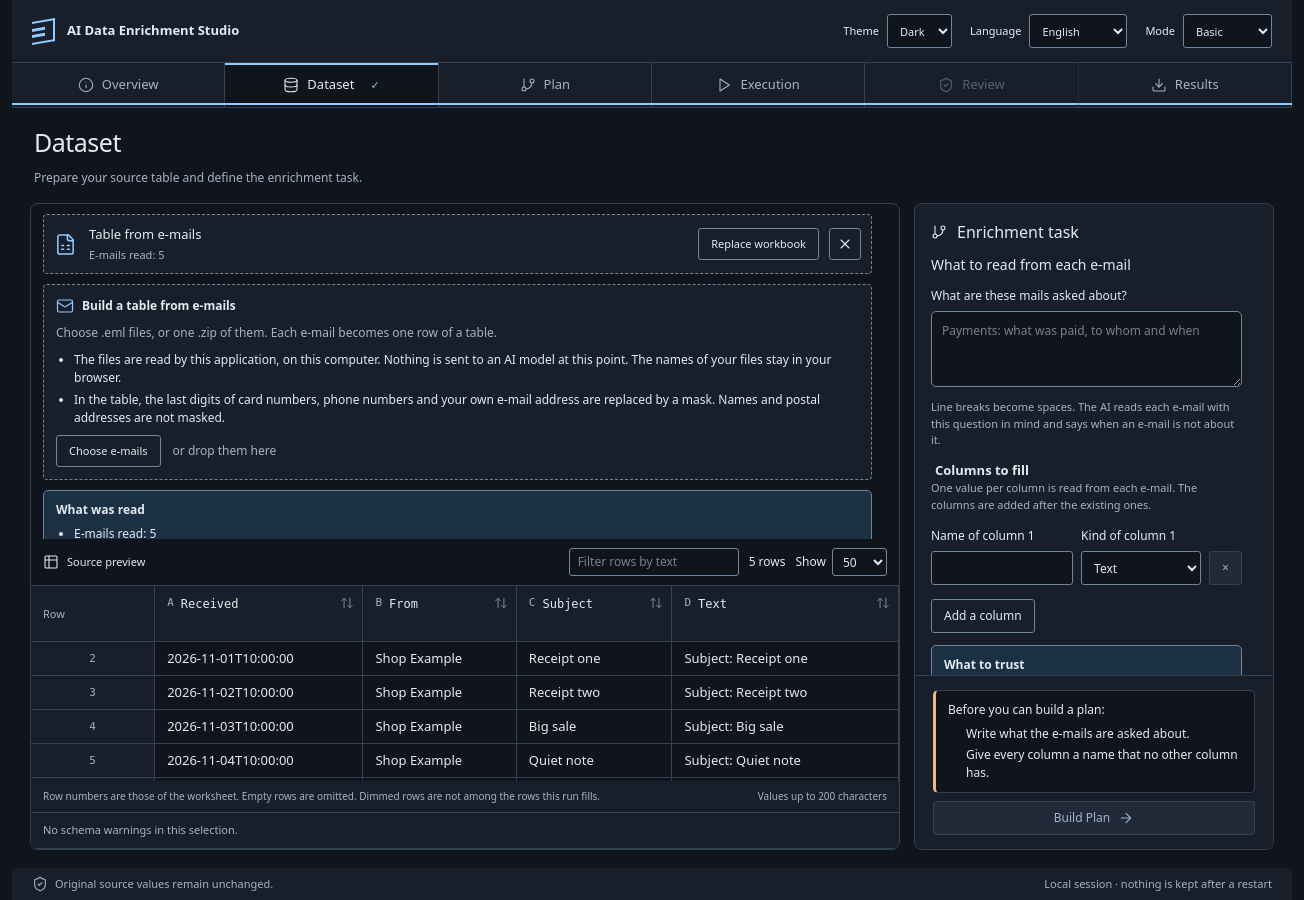
keeps the build button off until the form is valid, with the reason
The width and height of the screenshot is (1304, 900).
Earlier steps of the test are not shown.
Later steps or results of the test are not shown.
Expected: the button "Build Plan" is disabled, [933, 800, 1255, 834]
Type "q" into the text box labelled "What are these mails asked about?" at (1086, 349), box [931, 311, 1242, 387]
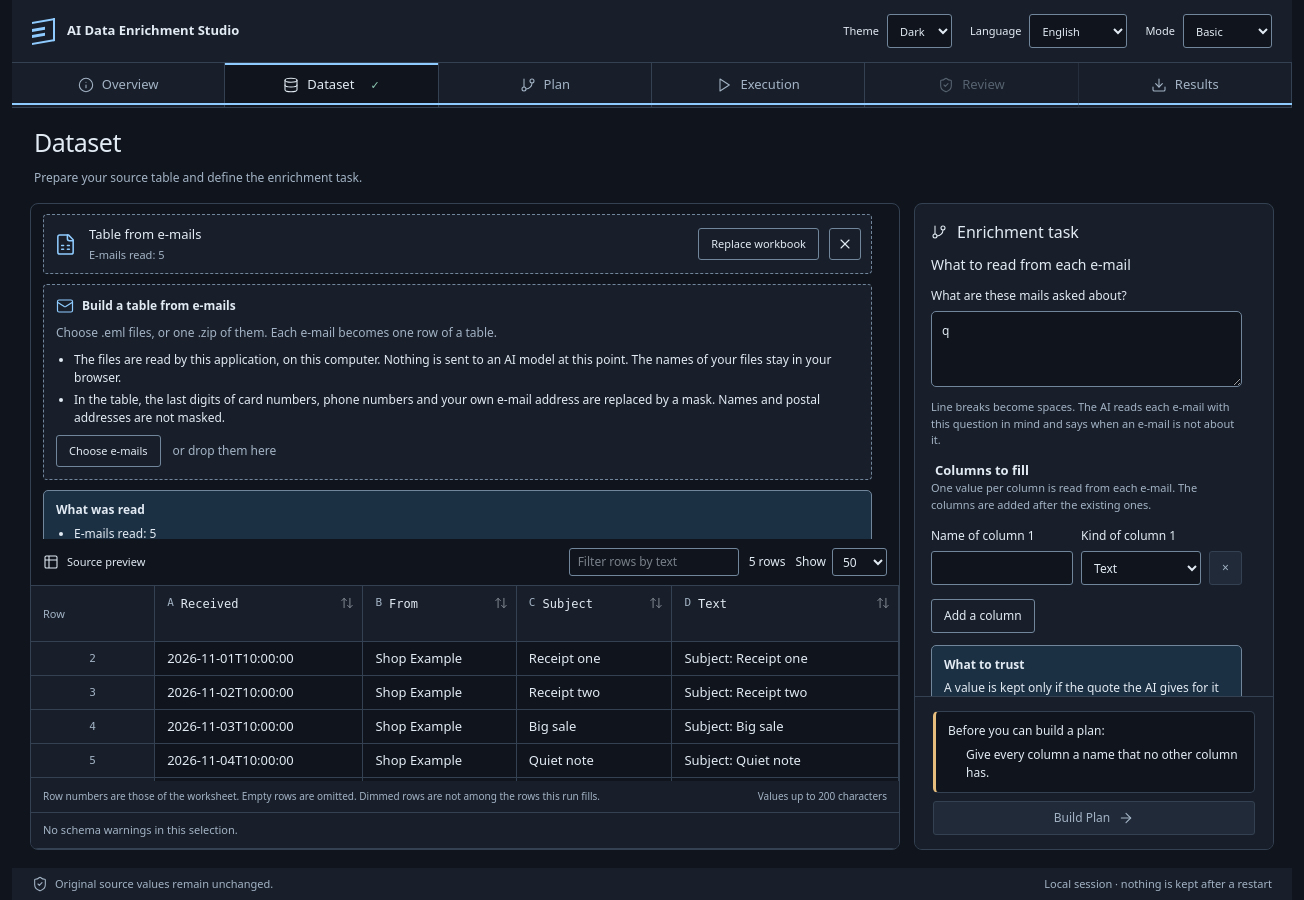
Type "text" into the field labelled "Name of column 1" at (1002, 568), box [931, 551, 1073, 585]
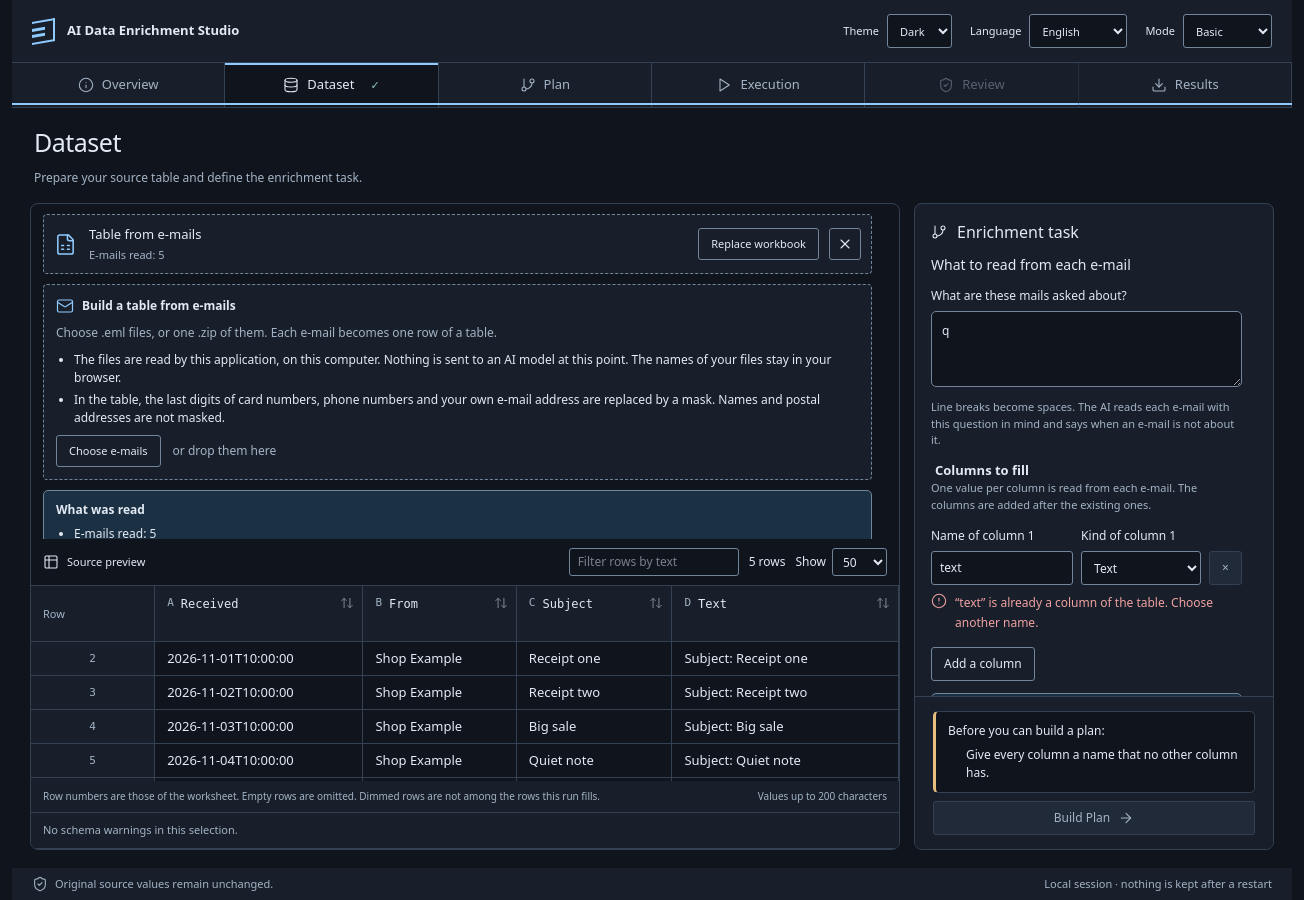
Expected: the button "Build Plan" is disabled, [933, 800, 1255, 834]
Replace the text in the field labelled "Name of column 1" with "Kind" at (1002, 568), box [931, 551, 1073, 585]
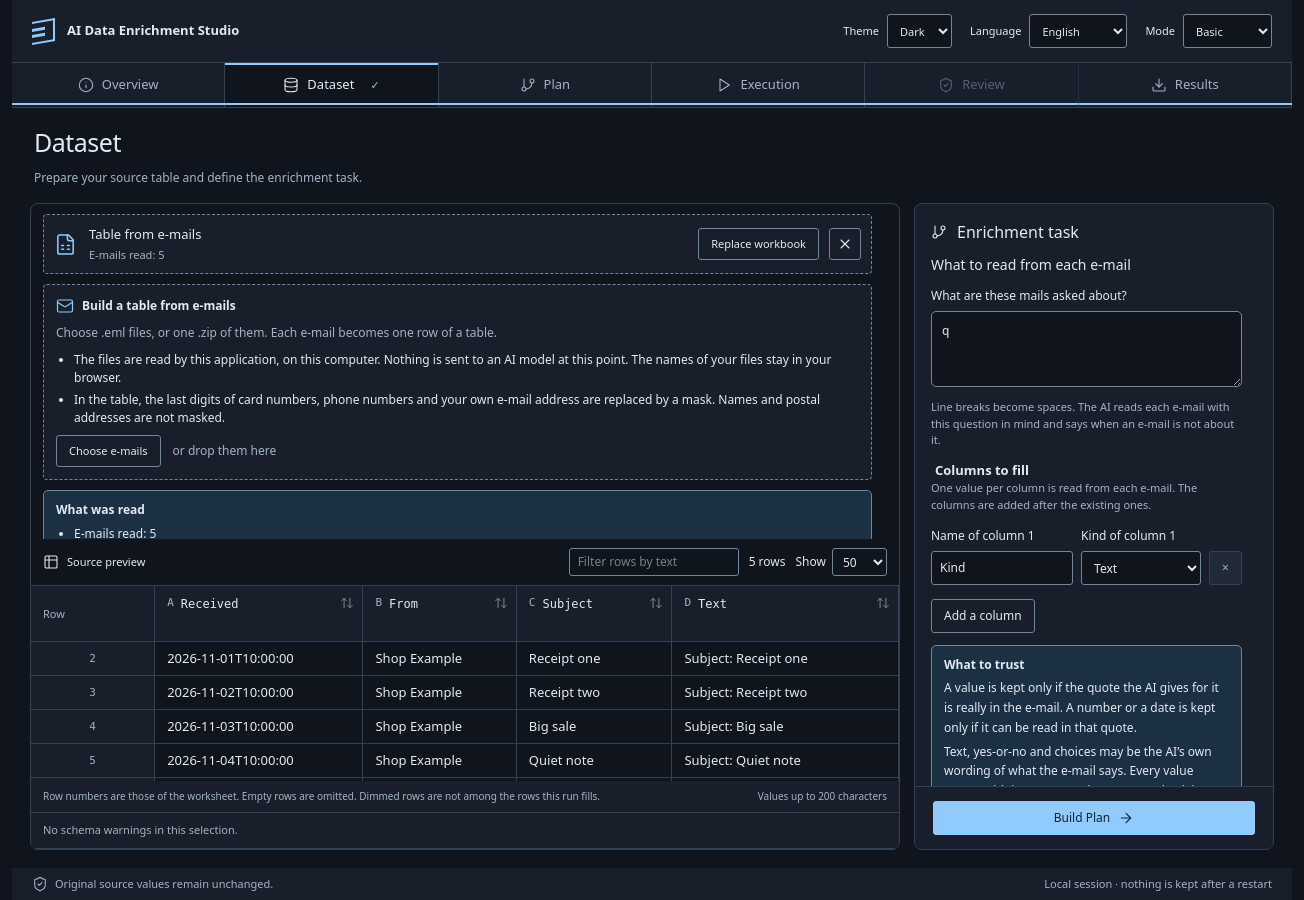
Select "One of a list" in the dropdown labelled "Kind of column 1" at (1141, 568), box [1081, 551, 1201, 585]
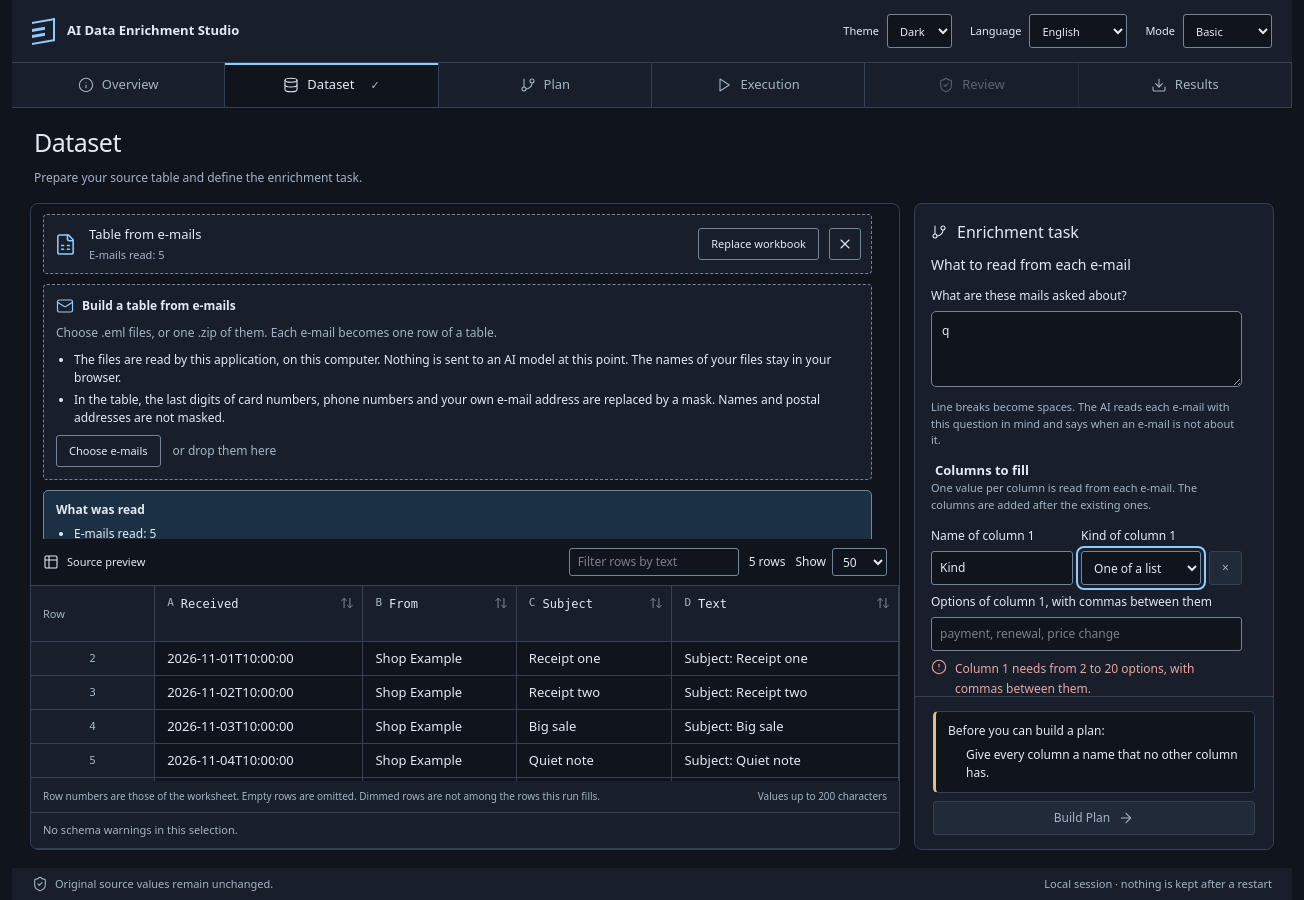
Expected: the button "Build Plan" is disabled, [933, 800, 1255, 834]
Type "payment, renewal" into the field labelled "Options of column 1, with commas between them" at (1086, 634), box [931, 617, 1242, 651]
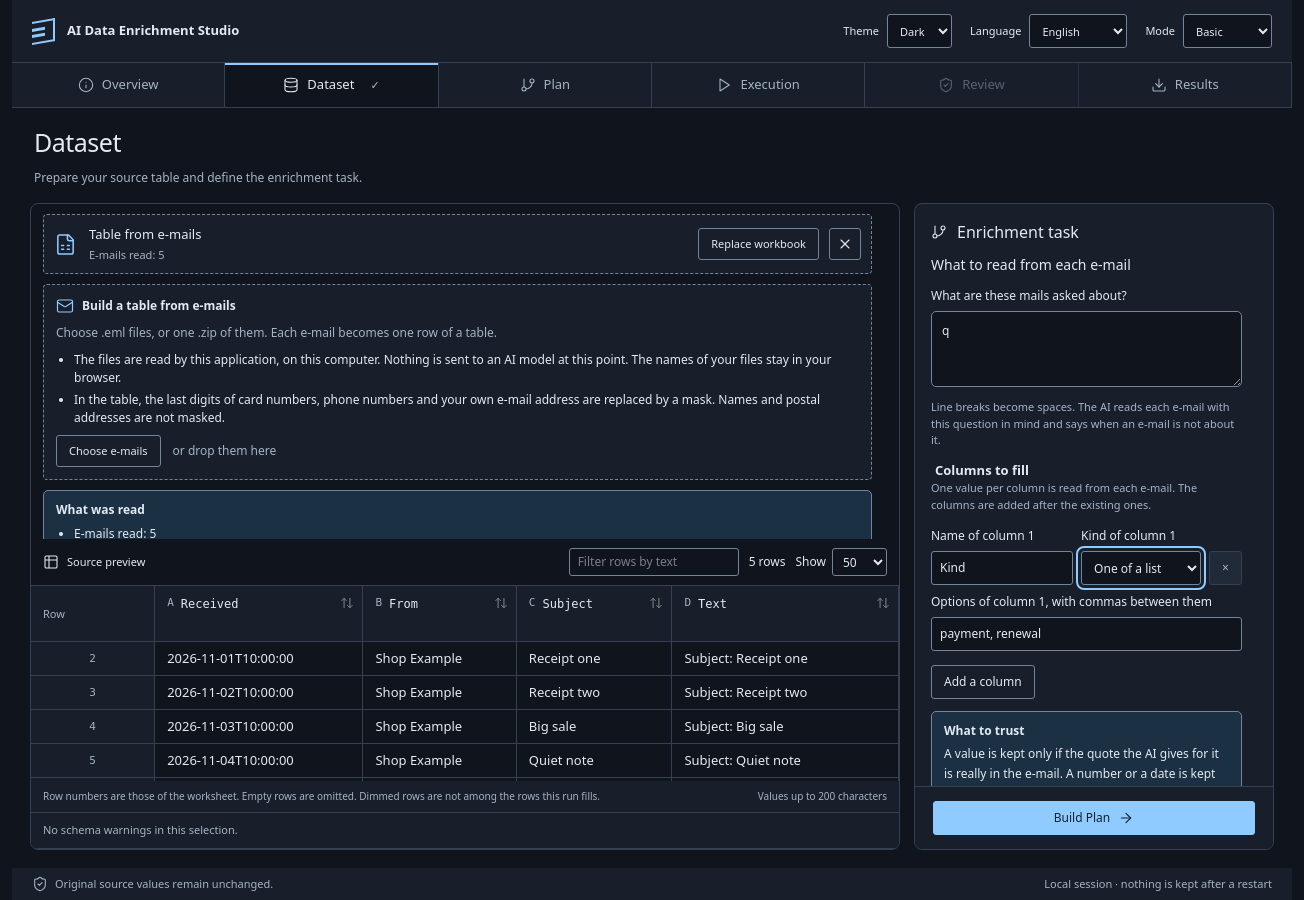
Expected: the button "Build Plan" is enabled, [933, 800, 1255, 834]
Click the button "Add a column" at (983, 682), box [931, 665, 1035, 699]
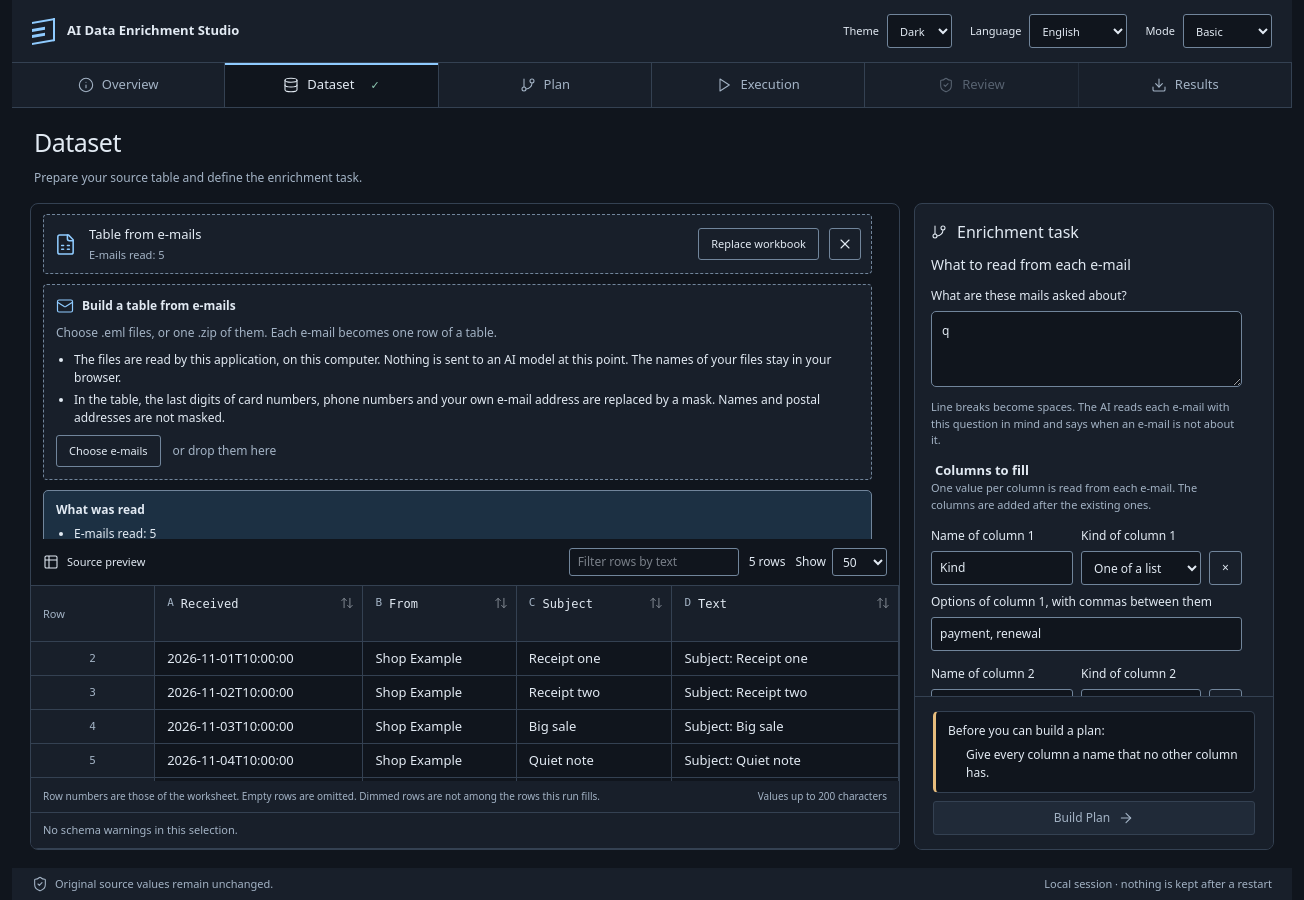
Expected: the number of elements with test id "extraction-column" is 2
